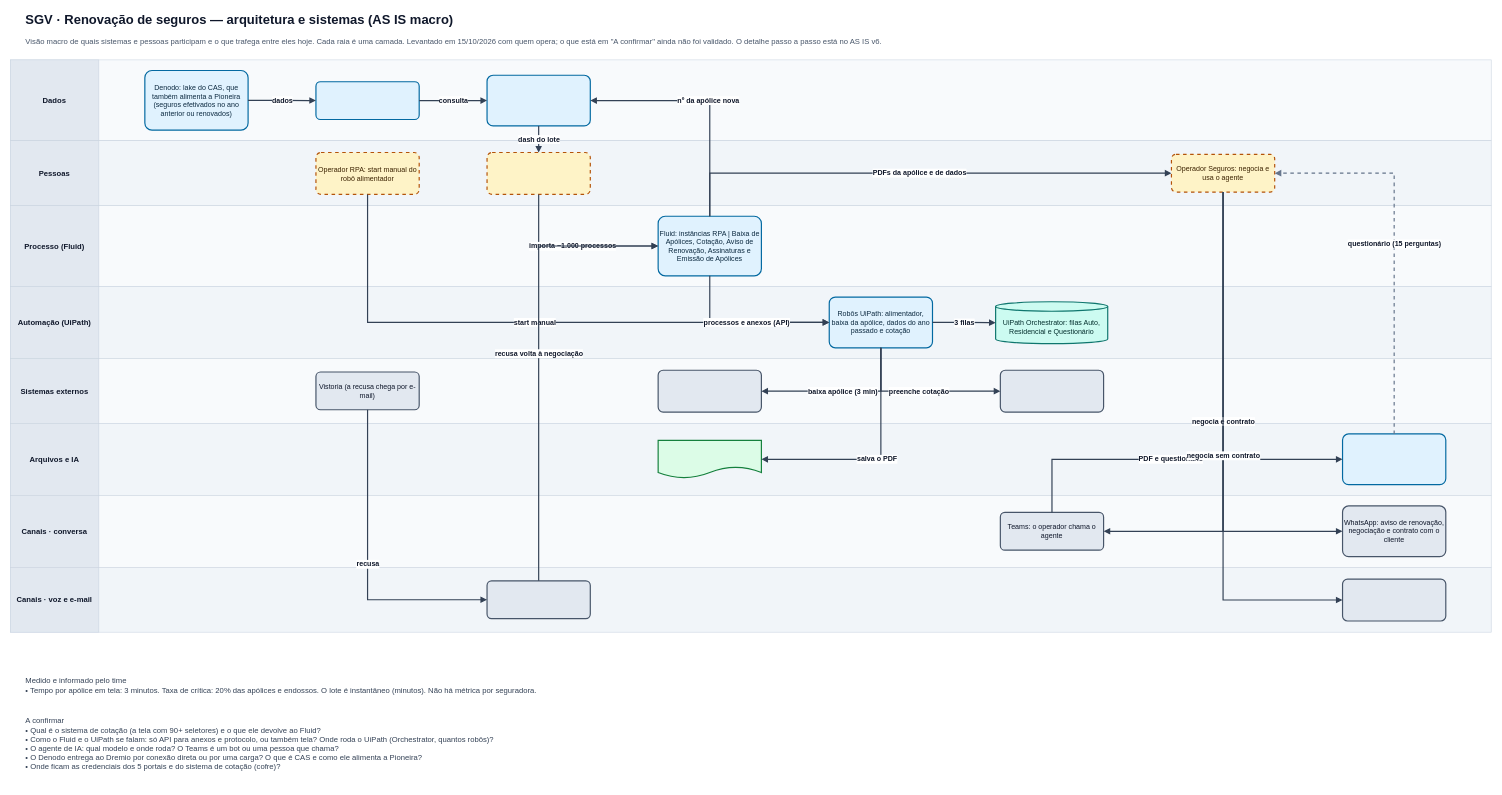
Image size: 1502x795. Some labels were removed from this diagram. The centre of each missing label's shape, as x and y in pixels:
"Adri (assessora de seguros): abre o lote dia 20" goes at (538,173).
"Agente de IA: lê os PDFs e monta o questionário de 15 perguntas" goes at (1394,459).
"Dremio: consulta e consolida os dados" goes at (367,100).
"E-mail: recusa da vistoria" goes at (538,599).
"Ligação com o cliente: negociação sem contrato" goes at (1394,599).
"Pasta de rede (UNC): PDF das apólices" goes at (709,459).
"Portais das 5 seguradoras (acesso por tela)" goes at (709,390).
"Power BI: dash com os ~1.000 processos a vencer, cerca de 40 dias antes" goes at (538,100).
"Sistema de cotação (acesso por tela, 90+ seletores)" goes at (1051,390).
